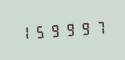five: (32, 22, 46, 41)
nine: (48, 21, 62, 40), (63, 19, 77, 38), (78, 18, 92, 37)
one: (17, 23, 31, 42)
seven: (93, 17, 107, 36)
